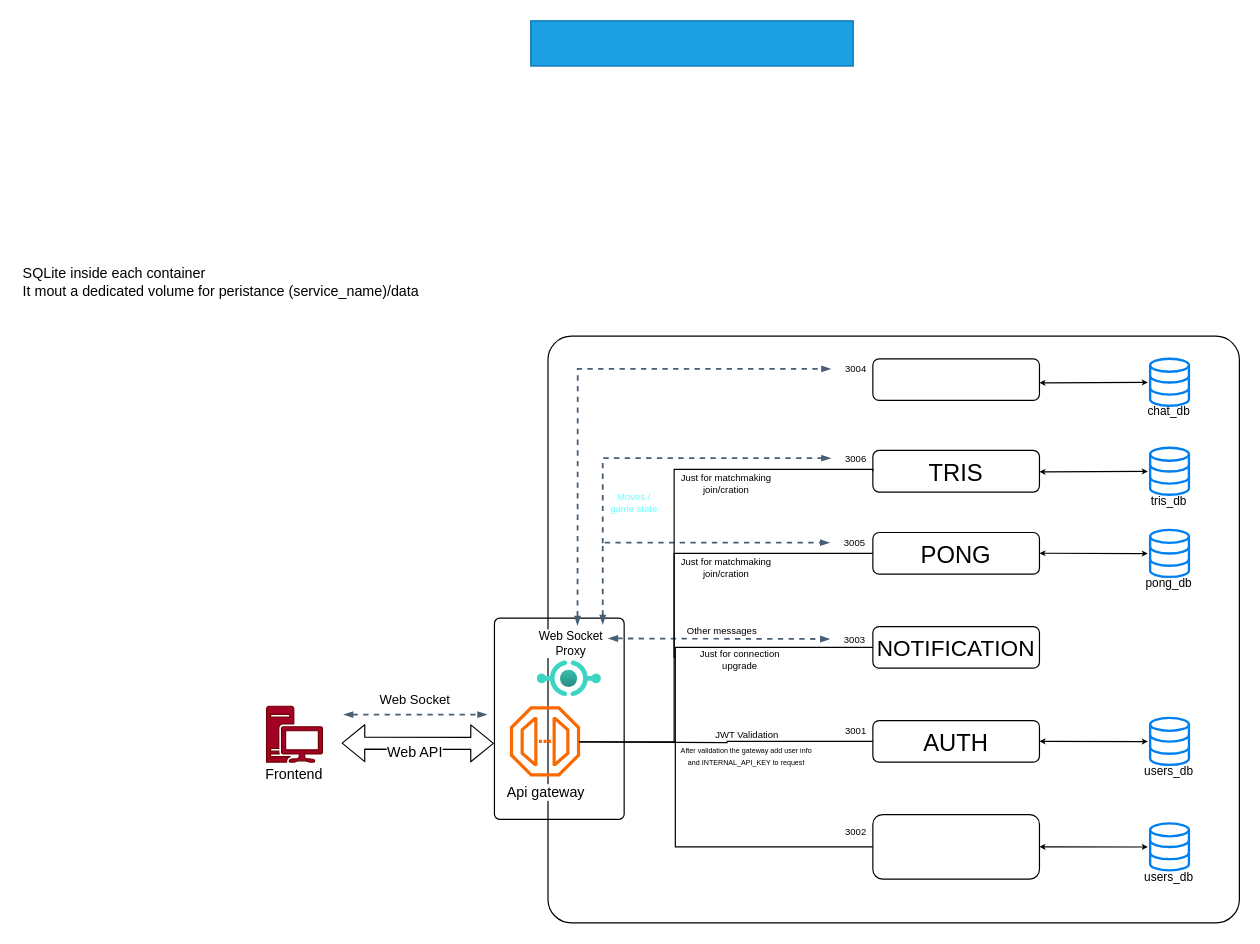
Some shapes in this 1260 by 944 pixel diagram are drawn without their labels. Each missing label, with the centre of its shape:
"API GATEWAY PATTERN" goes at point 691,43.
"CHAT" goes at point 955,379.
"USERS / RELATIONSHIPS" goes at point 955,846.
